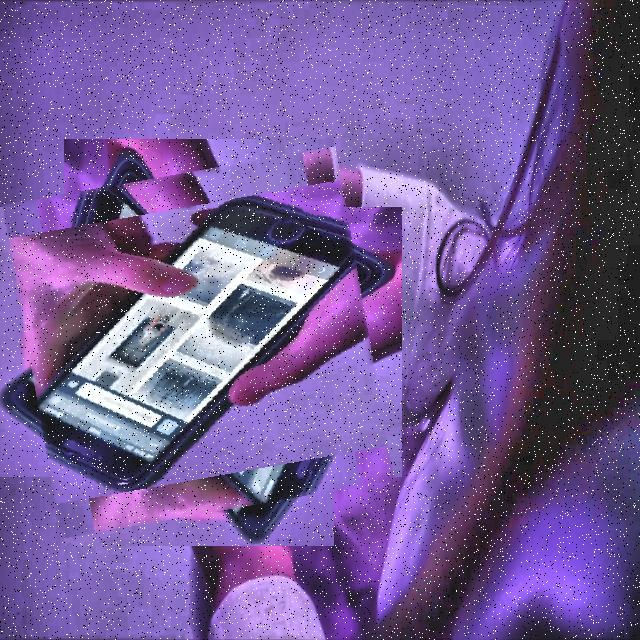Phone: (16, 160, 382, 525)
